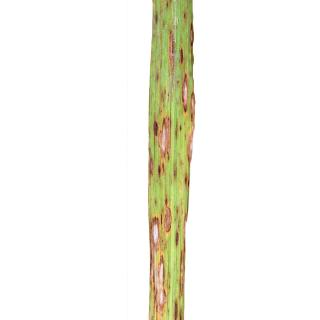Blast: (143, 204, 181, 319), (146, 102, 178, 179), (182, 121, 200, 177), (175, 70, 192, 109), (167, 28, 179, 75)
